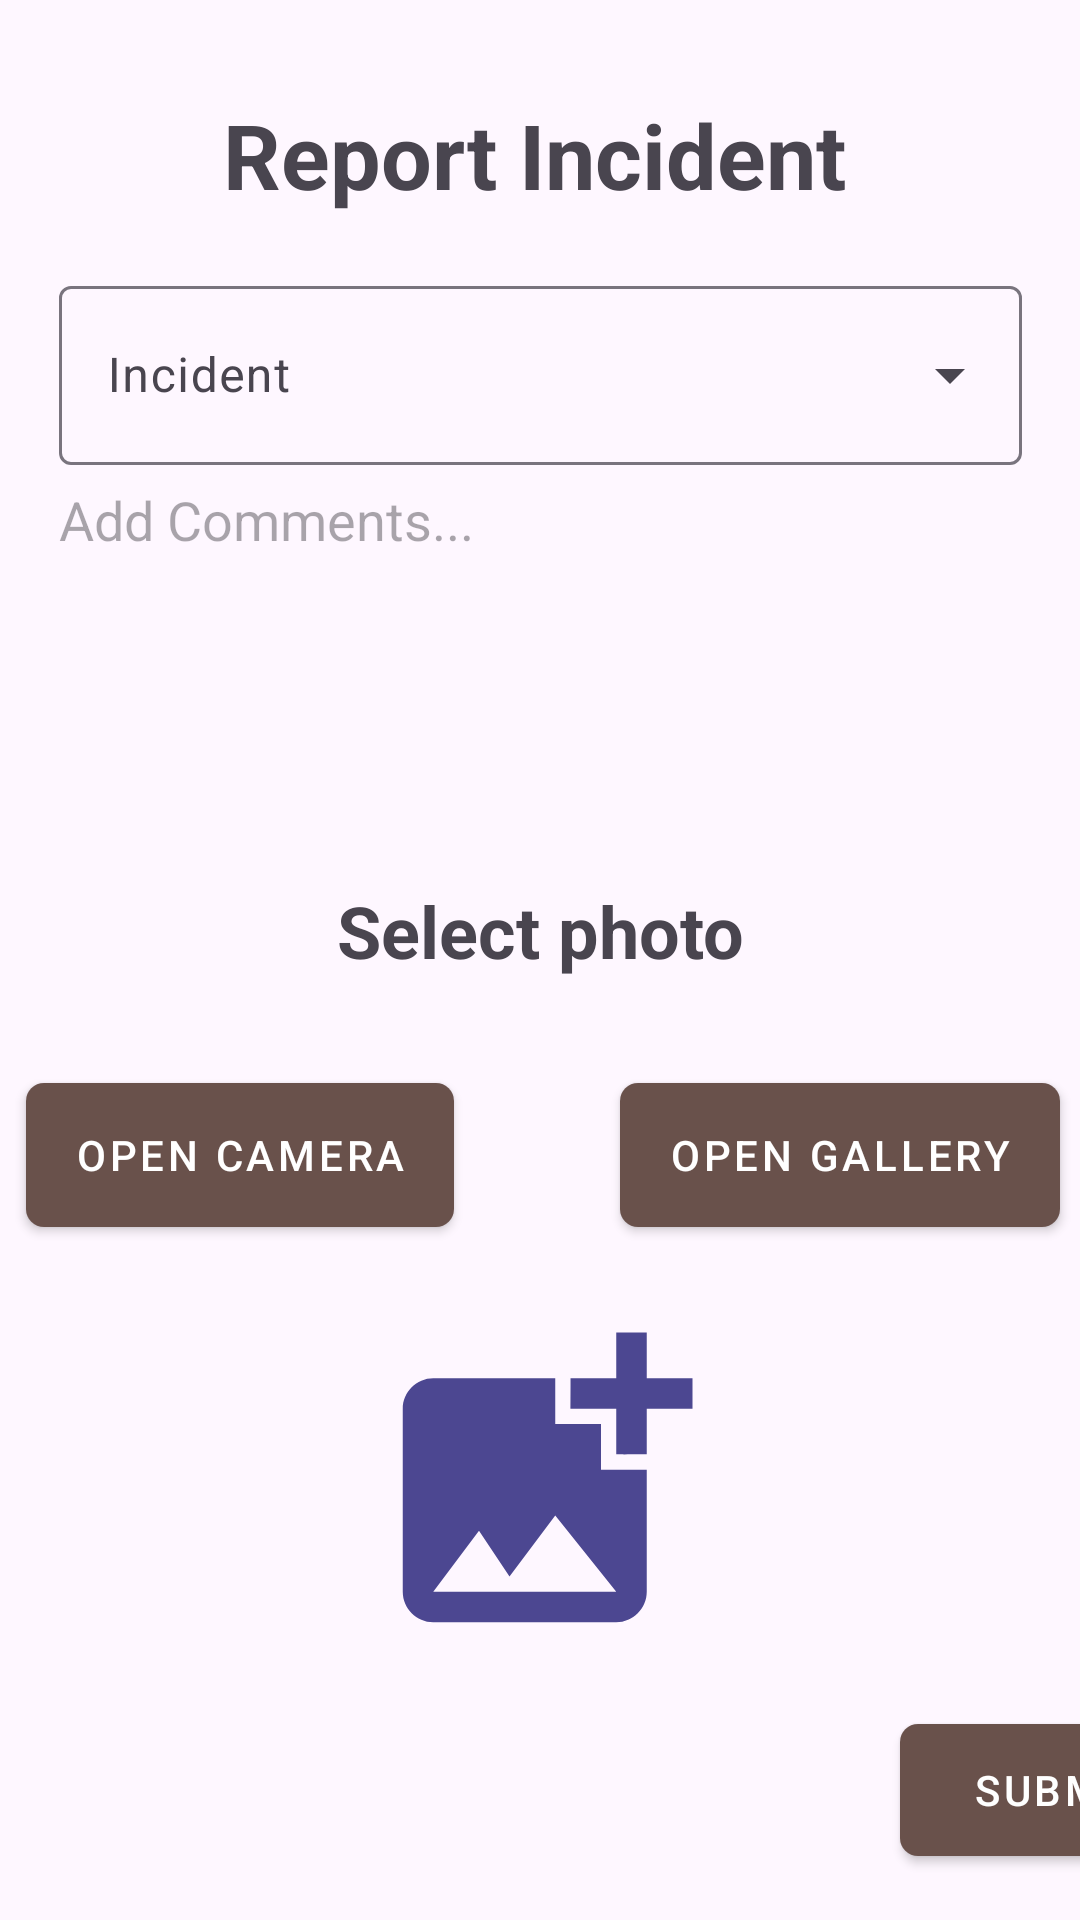

Icon click points for this 1080 x 1920 phone screenshot, format [x,y]:
add photo alternate: [547,1477]
